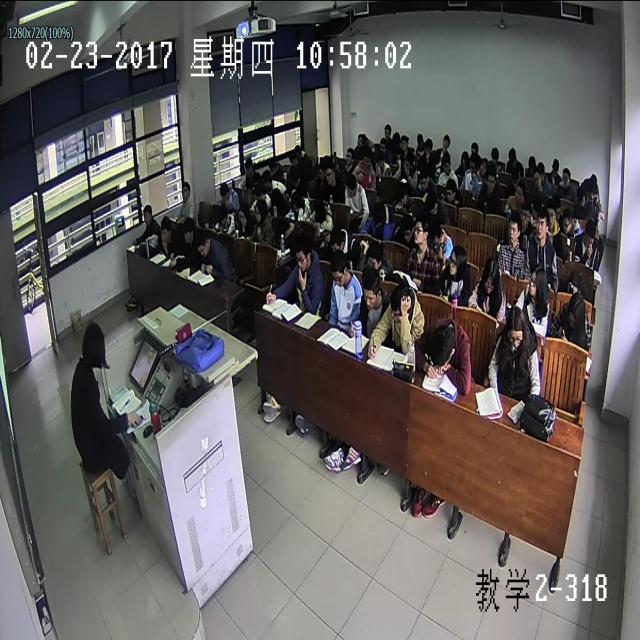person: (426, 319, 455, 371), (80, 319, 106, 371), (390, 281, 416, 326), (504, 302, 526, 350), (361, 267, 381, 308), (292, 231, 311, 272), (330, 251, 350, 289), (364, 237, 384, 275), (565, 291, 584, 330), (482, 256, 499, 293), (529, 263, 546, 299), (448, 242, 465, 275), (328, 224, 346, 254), (370, 200, 387, 230), (413, 218, 430, 248), (427, 217, 444, 246), (400, 210, 415, 242), (583, 213, 596, 248), (392, 177, 407, 207), (424, 186, 439, 216), (506, 217, 521, 244), (545, 204, 558, 234), (214, 201, 228, 228), (159, 215, 172, 244), (443, 176, 458, 201), (196, 230, 210, 256), (235, 200, 249, 226), (518, 196, 530, 226), (536, 210, 548, 240), (252, 197, 266, 222), (182, 218, 195, 244), (276, 216, 290, 240), (290, 192, 305, 214), (569, 268, 581, 295), (561, 206, 572, 234), (458, 147, 470, 172), (312, 200, 325, 223), (270, 186, 282, 210), (346, 172, 358, 196), (484, 165, 495, 191), (179, 177, 191, 200), (288, 162, 300, 184), (217, 180, 230, 200), (141, 203, 152, 226), (419, 166, 430, 189), (252, 182, 264, 203), (260, 166, 272, 187), (513, 180, 525, 201), (243, 157, 254, 179), (374, 148, 385, 170), (509, 165, 520, 187), (586, 180, 597, 202), (506, 146, 520, 163), (468, 153, 479, 174), (286, 145, 297, 165), (478, 155, 489, 175), (490, 141, 500, 163), (531, 165, 541, 187), (561, 166, 572, 186), (576, 184, 586, 206), (439, 133, 451, 151), (326, 163, 336, 184), (315, 158, 326, 177), (424, 136, 435, 154), (468, 138, 479, 156), (553, 194, 562, 216), (267, 153, 277, 172), (382, 117, 392, 136), (402, 151, 412, 170), (401, 130, 410, 151), (360, 148, 370, 166), (588, 168, 598, 186), (415, 129, 424, 148), (526, 152, 535, 170), (344, 148, 354, 164), (325, 153, 334, 170), (552, 157, 561, 173), (293, 141, 301, 157), (442, 156, 450, 172), (537, 159, 545, 175), (379, 135, 387, 150), (393, 129, 399, 148), (356, 130, 362, 146), (362, 132, 368, 146)
